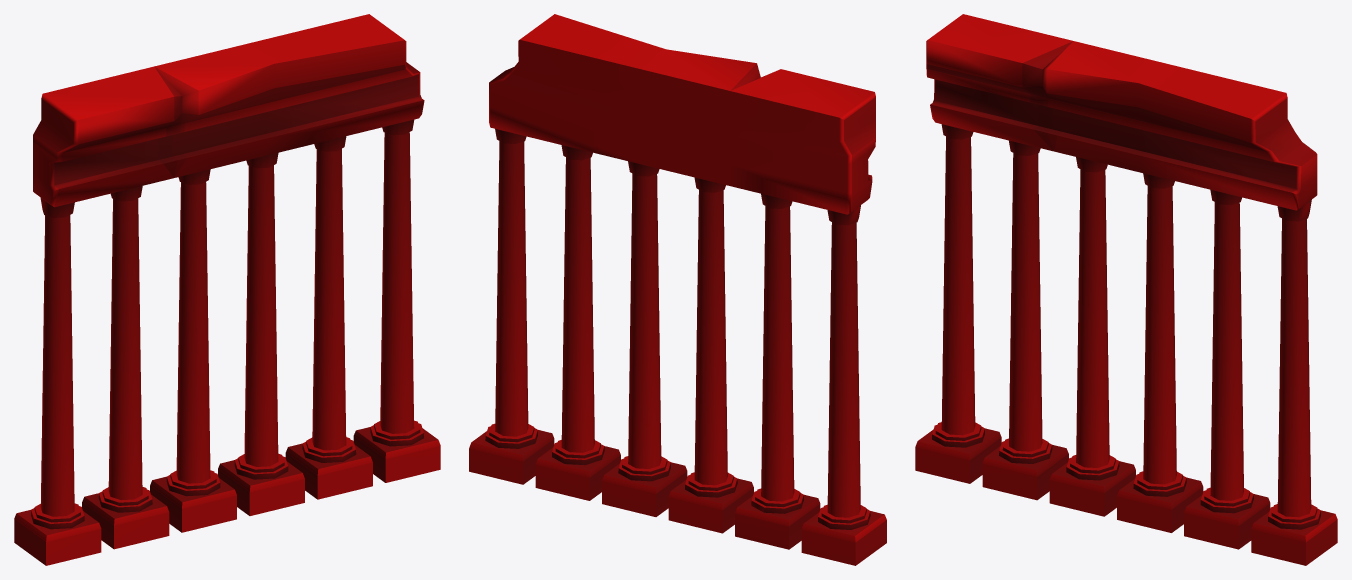
Rendered from buildings-ruins-ancientruins_v2.fbx.
3 renders of one model, left to right at view 1: azimuth 30°, elevation 25°; view 2: azimuth 150°, elevation 25°; view 3: azimuth 330°, elevation 25°, orthographic. The views are drawn at different scales.
Visible parts, largest first — view 1: AncientRuins_v2; view 2: AncientRuins_v2; view 3: AncientRuins_v2.
Boxes of the visible parts, box(x1,y1,x2,y2) form: AncientRuins_v2: box(14, 14, 440, 565); AncientRuins_v2: box(469, 14, 886, 565); AncientRuins_v2: box(915, 14, 1337, 565).
Size of the model in its own units: 10.19 by 11.05 by 1.88.
